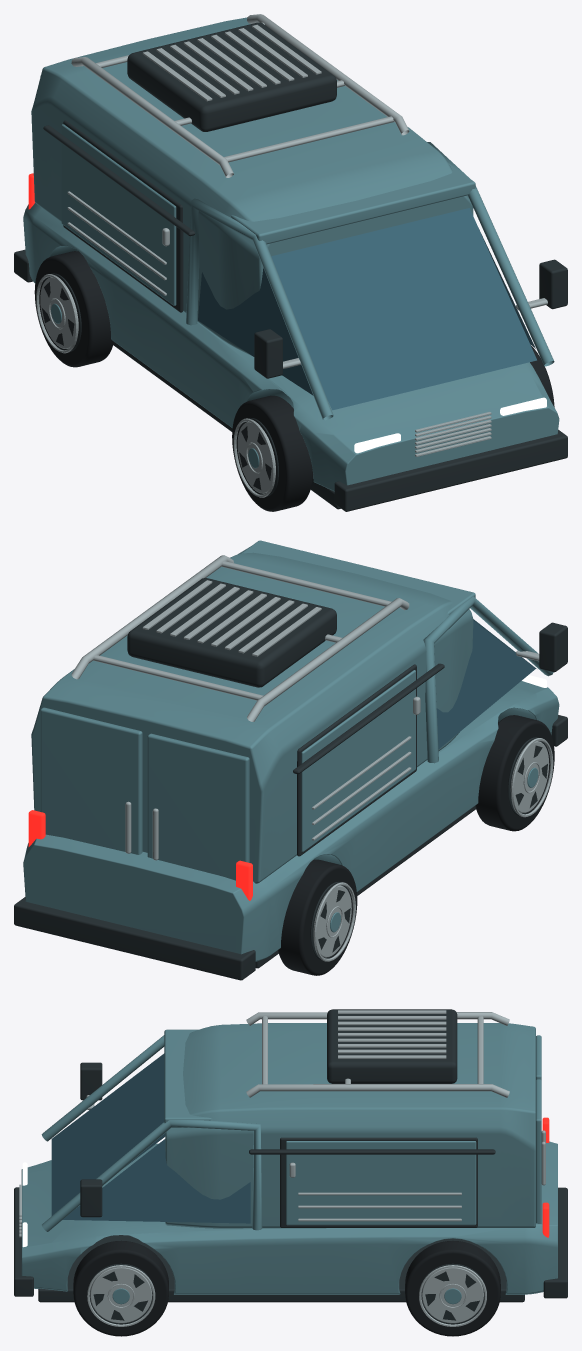
Rendered from service-van.glb.
The picture shows the model from 3 angles, top to bottom: view 1: azimuth 30°, elevation 25°; view 2: azimuth 150°, elevation 25°; view 3: azimuth 270°, elevation 25°; orthographic projection. The views are drawn at different scales.
Visible parts, largest first — view 1: body__Body enamel, body__Smoked blue glass, body__Graphite polymer, body__Machined alloy, wheel_L_F__Tire rubber, wheel_L_R__Tire rubber, wheel_L_F__Machined alloy, wheel_L_R__Machined alloy, body__Headlight ceramic, wheel_L_F__Graphite polymer, wheel_L_R__Graphite polymer; view 2: body__Body enamel, body__Graphite polymer, body__Machined alloy, body__Smoked blue glass, wheel_L_F__Tire rubber, wheel_L_R__Tire rubber, wheel_L_R__Machined alloy, wheel_L_F__Machined alloy, body__Tail light red, wheel_L_R__Graphite polymer, wheel_L_F__Graphite polymer; view 3: body__Body enamel, body__Graphite polymer, body__Smoked blue glass, body__Machined alloy, wheel_R_F__Tire rubber, wheel_R_R__Tire rubber, wheel_R_F__Machined alloy, wheel_R_R__Machined alloy, wheel_R_R__Graphite polymer, wheel_R_F__Graphite polymer, body__Tail light red.
Boxes of the visible parts, box(x1,y1,x2,y2) form: body__Body enamel: box(23, 17, 559, 491); body__Smoked blue glass: box(198, 208, 536, 410); body__Graphite polymer: box(14, 22, 567, 511); body__Machined alloy: box(67, 14, 547, 456); wheel_L_F__Tire rubber: box(232, 395, 312, 511); wheel_L_R__Tire rubber: box(34, 251, 113, 367); wheel_L_F__Machined alloy: box(233, 418, 275, 497); wheel_L_R__Machined alloy: box(36, 274, 78, 353); body__Headlight ceramic: box(354, 397, 546, 453); wheel_L_F__Graphite polymer: box(239, 418, 278, 496); wheel_L_R__Graphite polymer: box(41, 273, 81, 351); body__Body enamel: box(23, 540, 559, 961); body__Graphite polymer: box(14, 578, 567, 980); body__Machined alloy: box(71, 555, 539, 860); body__Smoked blue glass: box(436, 619, 536, 748); wheel_L_F__Tire rubber: box(475, 715, 554, 831); wheel_L_R__Tire rubber: box(278, 859, 357, 975); wheel_L_R__Machined alloy: box(313, 882, 355, 961); wheel_L_F__Machined alloy: box(510, 738, 553, 817); body__Tail light red: box(28, 810, 252, 900); wheel_L_R__Graphite polymer: box(310, 881, 350, 960); wheel_L_F__Graphite polymer: box(507, 737, 548, 815); body__Body enamel: box(21, 1023, 557, 1294); body__Graphite polymer: box(14, 1009, 567, 1302); body__Smoked blue glass: box(51, 1053, 250, 1223); body__Machined alloy: box(19, 1010, 545, 1237); wheel_R_F__Tire rubber: box(73, 1240, 168, 1336); wheel_R_R__Tire rubber: box(405, 1241, 500, 1336); wheel_R_F__Machined alloy: box(87, 1265, 155, 1326); wheel_R_R__Machined alloy: box(419, 1265, 486, 1326); wheel_R_R__Graphite polymer: box(420, 1263, 485, 1324); wheel_R_F__Graphite polymer: box(89, 1263, 153, 1324); body__Tail light red: box(542, 1117, 549, 1237).
Bounding box in the file's own units: 2.65 × 2.48 × 5.01.
